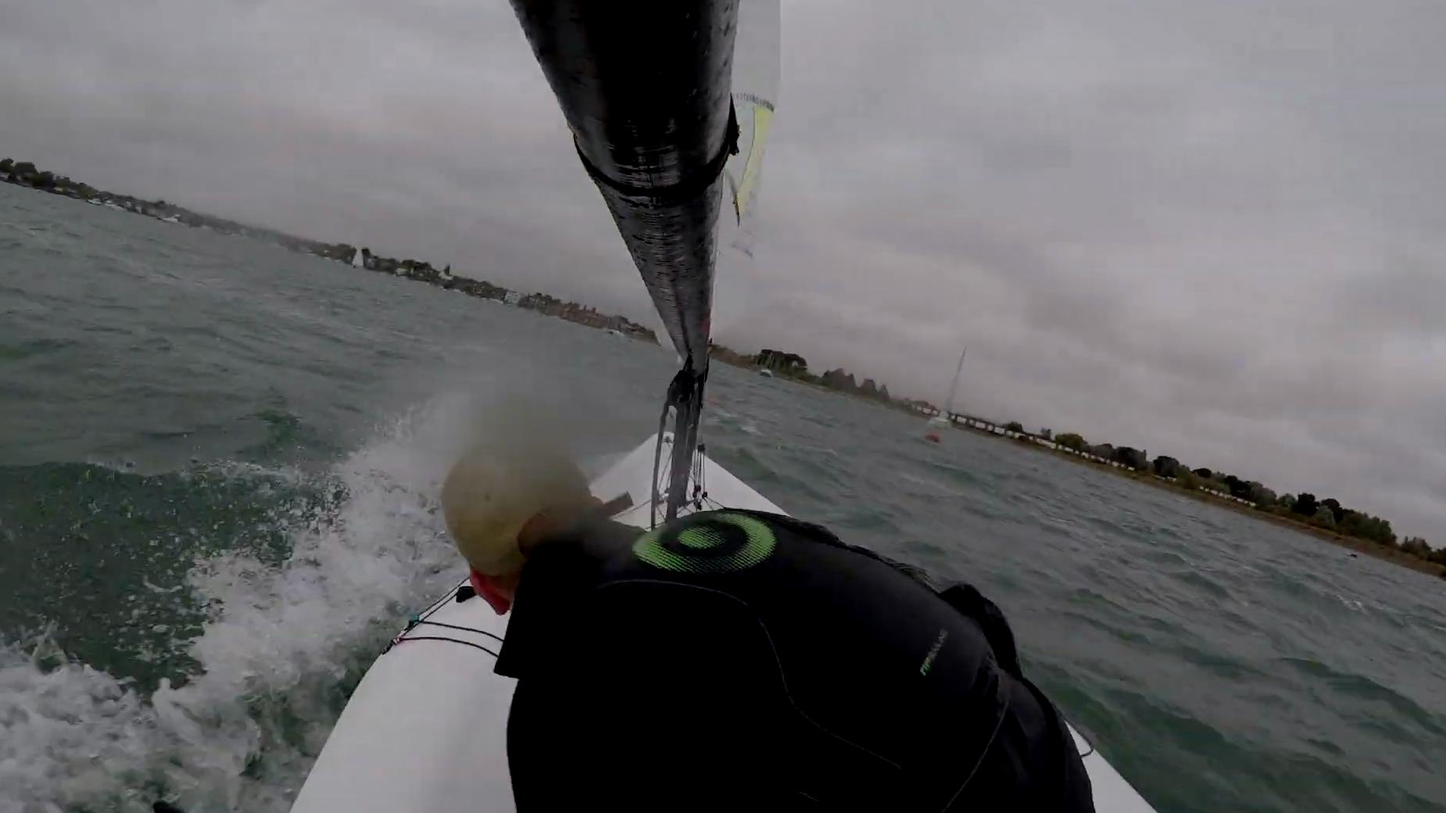boat: (288, 0, 1157, 813)
land: (721, 349, 1446, 580), (0, 159, 658, 344)
person: (442, 446, 1097, 813)
sea: (0, 182, 677, 813), (700, 362, 1446, 813)
sky: (716, 0, 1446, 550), (0, 0, 646, 320)
